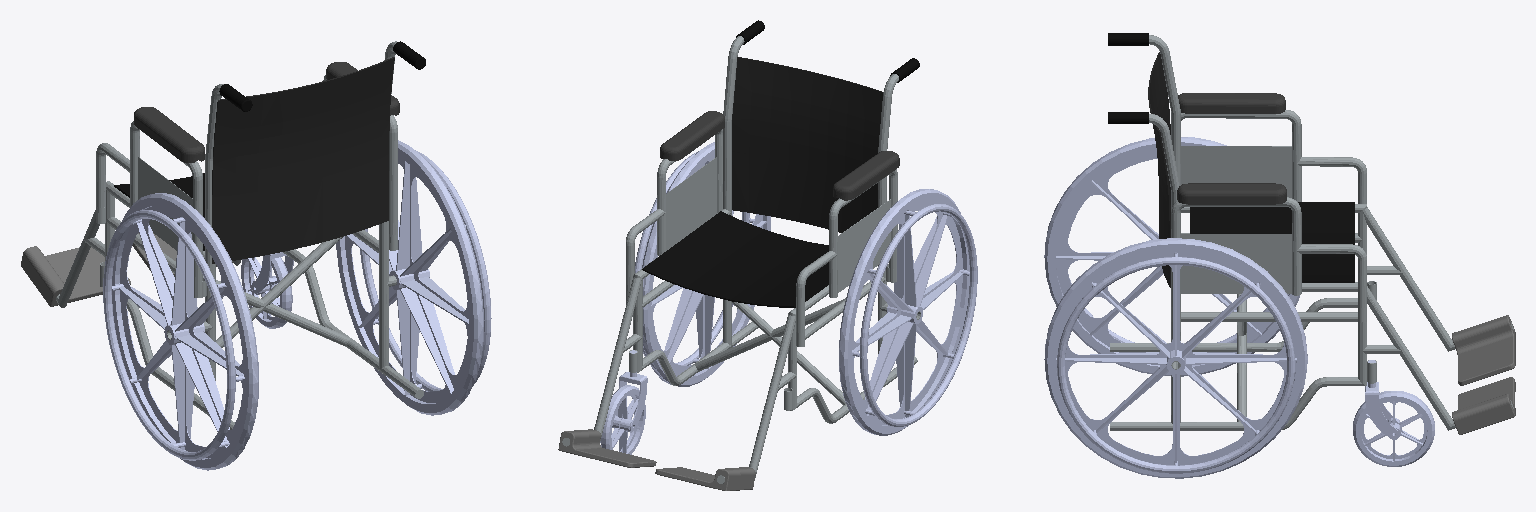
The robot description file, URDF, robot "wheelchair_description":
<robot
  name="wheelchair_description">
 
  <link
    name="base_link">
    <inertial>
      <origin
        xyz="-1.28082845038258E-05 0.101071625118331 -0.0727610834451831"
        rpy="0 0 0" />
      <mass
        value="2.91813448792695" />
      <inertia
        ixx="0.256407422045815"
        ixy="9.4092534200971E-07"
        ixz="-5.14055785103768E-06"
        iyy="0.264943521878258"
        iyz="0.0458755340734657"
        izz="0.241041719198046" />
    </inertial>
    <visual>
      <origin
        xyz="0 0 0"
        rpy="0 0 0" />
      <geometry>
        <mesh
          filename="package://wheelchair_description/meshes/base_link.STL" />
      </geometry>
      <material
        name="">
        <color
          rgba="0.63921568627451 0.666666666666667 0.67843137254902 1" />
      </material>
    </visual>
    <collision>
      <origin
        xyz="0 0 0"
        rpy="0 0 0" />
      <geometry>
        <mesh
          filename="package://wheelchair_description/meshes/base_link.STL" />
      </geometry>
    </collision>
  </link>
  <link
    name="leftwheel_large">
    <inertial>
      <origin
        xyz="0.00884272121955415 -1.52655665885959E-16 0"
        rpy="0 0 0" />
      <mass
        value="2.09127347260337" />
      <inertia
        ixx="0.141718020445608"
        ixy="-1.70129038814037E-18"
        ixz="4.38298979910474E-20"
        iyy="0.0715623057287749"
        iyz="-7.37535946286494E-20"
        izz="0.071562305728775" />
    </inertial>
    <visual>
      <origin
        xyz="0 0 0"
        rpy="0 0 0" />
      <geometry>
        <mesh
          filename="package://wheelchair_description/meshes/leftwheel_large.STL" />
      </geometry>
      <material
        name="">
        <color
          rgba="0.796078431372549 0.823529411764706 0.937254901960784 1" />
      </material>
    </visual>
    <collision>
      <origin
        xyz="0 0 0"
        rpy="0 0 0" />
      <geometry>
        <mesh
          filename="package://wheelchair_description/meshes/leftwheel_large.STL" />
      </geometry>
    </collision>
  </link>
  <joint
    name="leftwheel_large_joint"
    type="continuous">
    <origin
      xyz="-0.2794 -0.14129 0.0635"
      rpy="1.5708 0 3.1416" />
    <parent
      link="base_link" />
    <child
      link="leftwheel_large" />
    <axis
      xyz="1.0 0 0" />
  </joint>
  <link
    name="rightwheel_large">
    <inertial>
      <origin
        xyz="0.00884272121955421 5.55111512312578E-17 0"
        rpy="0 0 0" />
      <mass
        value="2.09127347260337" />
      <inertia
        ixx="0.141718020445608"
        ixy="-3.7003510904469E-18"
        ixz="1.20087974757339E-18"
        iyy="0.0715623057287749"
        iyz="5.59523873906816E-18"
        izz="0.071562305728775" />
    </inertial>
    <visual>
      <origin
        xyz="0 0 0"
        rpy="0 0 0" />
      <geometry>
        <mesh
          filename="package://wheelchair_description/meshes/rightwheel_large.STL" />
      </geometry>
      <material
        name="">
        <color
          rgba="0.796078431372549 0.823529411764706 0.937254901960784 1" />
      </material>
    </visual>
    <collision>
      <origin
        xyz="0 0 0"
        rpy="0 0 0" />
      <geometry>
        <mesh
          filename="package://wheelchair_description/meshes/rightwheel_large.STL" />
      </geometry>
    </collision>
  </link>
  <joint
    name="rightwheel_large_joint"
    type="continuous">
    <origin
      xyz="0.2794 -0.14129 0.0635"
      rpy="1.5708 0 0" />
    <parent
      link="base_link" />
    <child
      link="rightwheel_large" />
    <axis
      xyz="-1 0 0" />
  </joint>
  <link
    name="rightcaster">
    <inertial>
      <origin
        xyz="2.2944E-08 -0.079941 -0.0063847"
        rpy="0 0 0" />
      <mass
        value="0.064123" />
      <inertia
        ixx="0.0001406"
        ixy="2.3627E-11"
        ixz="-7.5709E-12"
        iyy="4.0905E-05"
        iyz="3.0634E-05"
        izz="0.00015091" />
    </inertial>
    <visual>
      <origin
        xyz="0 0 0"
        rpy="0 0 0" />
      <geometry>
        <mesh
          filename="package://wheelchair_description/meshes/rightcaster.STL" />
      </geometry>
      <material
        name="">
        <color
          rgba="0.79216 0.81961 0.93333 1" />
      </material>
    </visual>
    <collision>
      <origin
        xyz="0 0 0"
        rpy="0 0 0" />
      <geometry>
        <mesh
          filename="package://wheelchair_description/meshes/rightcaster.STL" />
      </geometry>
    </collision>
  </link>
  <joint
    name="rightcaster_joint"
    type="continuous">
    <origin
      xyz="0.2159 0.312737499999999 0.0253999999999996"
      rpy="1.5707963267949 0 0" />
    <parent
      link="base_link" />
    <child
      link="rightcaster" />
    <axis
      xyz="0 -1 0" />
  </joint>
  <link
    name="rightwheel_small">
    <inertial>
      <origin
        xyz="3.6892711108294E-13 2.77555756156289E-17 -5.55111512312578E-17"
        rpy="0 0 0" />
      <mass
        value="0.290948648858616" />
      <inertia
        ixx="0.00171792777524044"
        ixy="4.50037951992549E-20"
        ixz="-1.44756607081068E-21"
        iyy="0.000880037934920854"
        iyz="9.06796746511257E-20"
        izz="0.000880037934920855" />
    </inertial>
    <visual>
      <origin
        xyz="0 0 0"
        rpy="0 0 0" />
      <geometry>
        <mesh
          filename="package://wheelchair_description/meshes/rightwheel_small.STL" />
      </geometry>
      <material
        name="">
        <color
          rgba="0.796078431372549 0.823529411764706 0.937254901960784 1" />
      </material>
    </visual>
    <collision>
      <origin
        xyz="0 0 0"
        rpy="0 0 0" />
      <geometry>
        <mesh
          filename="package://wheelchair_description/meshes/rightwheel_small.STL" />
      </geometry>
    </collision>
  </link>
  <joint
    name="rightwheel_small_joint"
    type="continuous">
    <origin
      xyz="0 -0.17145 -0.0508"
      rpy="0 0 0" />
    <parent
      link="rightcaster" />
    <child
      link="rightwheel_small" />
    <axis
      xyz="-1 0 0" />
  </joint>
  <link
    name="leftcaster">
    <inertial>
      <origin
        xyz="2.2944E-08 -0.079941 -0.0063847"
        rpy="0 0 0" />
      <mass
        value="0.064123" />
      <inertia
        ixx="0.0001406"
        ixy="2.3627E-11"
        ixz="-7.5709E-12"
        iyy="4.0905E-05"
        iyz="3.0634E-05"
        izz="0.00015091" />
    </inertial>
    <visual>
      <origin
        xyz="0 0 0"
        rpy="0 0 0" />
      <geometry>
        <mesh
          filename="package://wheelchair_description/meshes/leftcaster.STL" />
      </geometry>
      <material
        name="">
        <color
          rgba="0.79216 0.81961 0.93333 1" />
      </material>
    </visual>
    <collision>
      <origin
        xyz="0 0 0"
        rpy="0 0 0" />
      <geometry>
        <mesh
          filename="package://wheelchair_description/meshes/leftcaster.STL" />
      </geometry>
    </collision>
  </link>
  <joint
    name="leftcaster_joint"
    type="continuous">
    <origin
      xyz="-0.2159 0.31274 0.0254"
      rpy="1.5708 0 0" />
    <parent
      link="base_link" />
    <child
      link="leftcaster" />
    <axis
      xyz="0 -1 0" />
  </joint>
  <link
    name="leftwheel_small">
    <inertial>
      <origin
        xyz="3.6892711108294E-13 2.77555756156289E-17 -5.55111512312578E-17"
        rpy="0 0 0" />
      <mass
        value="0.290948648858616" />
      <inertia
        ixx="0.00171792777524044"
        ixy="4.50037951992647E-20"
        ixz="-1.55096364737737E-21"
        iyy="0.000880037934920855"
        iyz="9.04728794979875E-20"
        izz="0.000880037934920855" />
    </inertial>
    <visual>
      <origin
        xyz="0 0 0"
        rpy="0 0 0" />
      <geometry>
        <mesh
          filename="package://wheelchair_description/meshes/leftwheel_small.STL" />
      </geometry>
      <material
        name="">
        <color
          rgba="0.796078431372549 0.823529411764706 0.937254901960784 1" />
      </material>
    </visual>
    <collision>
      <origin
        xyz="0 0 0"
        rpy="0 0 0" />
      <geometry>
        <mesh
          filename="package://wheelchair_description/meshes/leftwheel_small.STL" />
      </geometry>
    </collision>
  </link>
  <joint
    name="leftwheel_small_joint"
    type="continuous">
    <origin
      xyz="0 -0.17145 -0.0508"
      rpy="0 0 0" />
    <parent
      link="leftcaster" />
    <child
      link="leftwheel_small" />
    <axis
      xyz="-1 0 0" />
  </joint>
  <link
    name="rightarm">
    <inertial>
      <origin
        xyz="1.18010281741077E-07 0.185166937072231 -0.199206461461145"
        rpy="0 0 0" />
      <mass
        value="0.471825089726768" />
      <inertia
        ixx="0.0155593318644731"
        ixy="1.84439011258916E-09"
        ixz="-3.43766589699374E-09"
        iyy="0.0117190838949384"
        iyz="0.00138642687496885"
        izz="0.00386697456778474" />
    </inertial>
    <visual>
      <origin
        xyz="0 0 0"
        rpy="0 0 0" />
      <geometry>
        <mesh
          filename="package://wheelchair_description/meshes/rightarm.STL" />
      </geometry>
      <material
        name="">
        <color
          rgba="0.63921568627451 0.666666666666667 0.67843137254902 1" />
      </material>
    </visual>
    <collision>
      <origin
        xyz="0 0 0"
        rpy="0 0 0" />
      <geometry>
        <mesh
          filename="package://wheelchair_description/meshes/rightarm.STL" />
      </geometry>
    </collision>
  </link>
  <joint
    name="rightarm_joint"
    type="fixed">
    <origin
      xyz="0.23813 -0.14129 0.1397"
      rpy="1.5708 0 0" />
    <parent
      link="base_link" />
    <child
      link="rightarm" />
    <axis
      xyz="0 0 0" />
  </joint>
  <link
    name="right_armrest">
    <inertial>
      <origin
        xyz="-2.42861286636753E-17 0.0157847733756278 -3.11620174109351E-12"
        rpy="0 0 0" />
      <mass
        value="0.408415585541636" />
      <inertia
        ixx="0.000135173991787839"
        ixy="5.02807841910249E-20"
        ixz="4.88453589208517E-14"
        iyy="0.00211830087648834"
        iyz="-9.09079579520897E-14"
        izz="0.00204476151647392" />
    </inertial>
    <visual>
      <origin
        xyz="0 0 0"
        rpy="0 0 0" />
      <geometry>
        <mesh
          filename="package://wheelchair_description/meshes/right_armrest.STL" />
      </geometry>
      <material
        name="">
        <color
          rgba="0.294117647058824 0.294117647058824 0.294117647058824 1" />
      </material>
    </visual>
    <collision>
      <origin
        xyz="0 0 0"
        rpy="0 0 0" />
      <geometry>
        <mesh
          filename="package://wheelchair_description/meshes/right_armrest.STL" />
      </geometry>
    </collision>
  </link>
  <joint
    name="right_armrest_joint"
    type="fixed">
    <origin
      xyz="0 0.31115 -0.12979"
      rpy="0 1.5708 0" />
    <parent
      link="rightarm" />
    <child
      link="right_armrest" />
    <axis
      xyz="0 0 0" />
  </joint>
  <link
    name="leftarm">
    <inertial>
      <origin
        xyz="1.18010281685565E-07 0.185166937072233 -0.199206461461144"
        rpy="0 0 0" />
      <mass
        value="0.471825089726767" />
      <inertia
        ixx="0.015559331864473"
        ixy="1.84439011362186E-09"
        ixz="-3.43766589311025E-09"
        iyy="0.0117190838949385"
        iyz="0.00138642687496879"
        izz="0.00386697456778471" />
    </inertial>
    <visual>
      <origin
        xyz="0 0 0"
        rpy="0 0 0" />
      <geometry>
        <mesh
          filename="package://wheelchair_description/meshes/leftarm.STL" />
      </geometry>
      <material
        name="">
        <color
          rgba="0.63921568627451 0.666666666666667 0.67843137254902 1" />
      </material>
    </visual>
    <collision>
      <origin
        xyz="0 0 0"
        rpy="0 0 0" />
      <geometry>
        <mesh
          filename="package://wheelchair_description/meshes/leftarm.STL" />
      </geometry>
    </collision>
  </link>
  <joint
    name="leftarm_joint"
    type="fixed">
    <origin
      xyz="-0.24692 -0.1412 0.1397"
      rpy="1.5708 -1.2478E-18 -0.02038" />
    <parent
      link="base_link" />
    <child
      link="leftarm" />
    <axis
      xyz="0 0 0" />
  </joint>
  <link
    name="left_armrest">
    <inertial>
      <origin
        xyz="1.52655665885959E-16 0.0157847733756278 -3.11620174109351E-12"
        rpy="0 0 0" />
      <mass
        value="0.408415585541636" />
      <inertia
        ixx="0.000135173991787839"
        ixy="-1.73218564538266E-17"
        ixz="4.88618841500382E-14"
        iyy="0.00211830087648834"
        iyz="-9.09079215940594E-14"
        izz="0.00204476151647392" />
    </inertial>
    <visual>
      <origin
        xyz="0 0 0"
        rpy="0 0 0" />
      <geometry>
        <mesh
          filename="package://wheelchair_description/meshes/left_armrest.STL" />
      </geometry>
      <material
        name="">
        <color
          rgba="0.294117647058824 0.294117647058824 0.294117647058824 1" />
      </material>
    </visual>
    <collision>
      <origin
        xyz="0 0 0"
        rpy="0 0 0" />
      <geometry>
        <mesh
          filename="package://wheelchair_description/meshes/left_armrest.STL" />
      </geometry>
    </collision>
  </link>
  <joint
    name="left_armrest_joint"
    type="fixed">
    <origin
      xyz="0 0.31115 0"
      rpy="0 1.5708 0" />
    <parent
      link="leftarm" />
    <child
      link="left_armrest" />
    <axis
      xyz="0 0 0" />
  </joint>
  <link
    name="footrest_right">
    <inertial>
      <origin
        xyz="-0.0236226570016088 0.0138345880544009 1.18350340638784E-09"
        rpy="0 0 0" />
      <mass
        value="0.501530967220647" />
      <inertia
        ixx="0.000903120970728862"
        ixy="-0.000220262508399431"
        ixz="-5.59521519754147E-11"
        iyy="0.00273494587361928"
        iyz="1.10352302924895E-11"
        izz="0.0020199225032826" />
    </inertial>
    <visual>
      <origin
        xyz="0 0 0"
        rpy="0 0 0" />
      <geometry>
        <mesh
          filename="package://wheelchair_description/meshes/footrest_right.STL" />
      </geometry>
      <material
        name="">
        <color
          rgba="0.494117647058824 0.494117647058824 0.494117647058824 1" />
      </material>
    </visual>
    <collision>
      <origin
        xyz="0 0 0"
        rpy="0 0 0" />
      <geometry>
        <mesh
          filename="package://wheelchair_description/meshes/footrest_right.STL" />
      </geometry>
    </collision>
  </link>
  <joint
    name="footrest_right_joint"
    type="fixed">
    <origin
      xyz="0.133349996040531 0.57997143308514 -0.131687141742198"
      rpy="1.22173047639603 -1.46483635954078E-07 3.14159265358979" />
    <parent
      link="base_link" />
    <child
      link="footrest_right" />
    <axis
      xyz="0 0 0" />
  </joint>
  <link
    name="footrest_left">
    <inertial>
      <origin
        xyz="-0.0236226546114514 0.0138345921356111 0"
        rpy="0 0 0" />
      <mass
        value="0.501530967220646" />
      <inertia
        ixx="0.000903121046837002"
        ixy="-0.000220262824877906"
        ixz="-1.02999206386123E-18"
        iyy="0.00273494579751114"
        iyz="-2.60208521396521E-18"
        izz="0.0020199225032826" />
    </inertial>
    <visual>
      <origin
        xyz="0 0 0"
        rpy="0 0 0" />
      <geometry>
        <mesh
          filename="package://wheelchair_description/meshes/footrest_left.STL" />
      </geometry>
      <material
        name="">
        <color
          rgba="0.494117647058824 0.494117647058824 0.494117647058824 1" />
      </material>
    </visual>
    <collision>
      <origin
        xyz="0 0 0"
        rpy="0 0 0" />
      <geometry>
        <mesh
          filename="package://wheelchair_description/meshes/footrest_left.STL" />
      </geometry>
    </collision>
  </link>
  <joint
    name="footrest_left_joint"
    type="fixed">
    <origin
      xyz="-0.13335 0.57997 -0.13169"
      rpy="1.9199 0 0" />
    <parent
      link="base_link" />
    <child
      link="footrest_left" />
    <axis
      xyz="0 0 0" />
  </joint>
  <link
    name="rightgrip">
    <inertial>
      <origin
        xyz="-2.77555756156289E-17 0 0.0456011551858931"
        rpy="0 0 0" />
      <mass
        value="0.0252443236384477" />
      <inertia
        ixx="2.24921786050753E-05"
        ixy="6.64838770530638E-38"
        ixz="-8.25558926882581E-22"
        iyy="2.24921786050753E-05"
        iyz="3.9158246270818E-34"
        izz="4.00656160389394E-06" />
    </inertial>
    <visual>
      <origin
        xyz="0 0 0"
        rpy="0 0 0" />
      <geometry>
        <mesh
          filename="package://wheelchair_description/meshes/rightgrip.STL" />
      </geometry>
      <material
        name="">
        <color
          rgba="0.0980392156862745 0.0980392156862745 0.0980392156862745 1" />
      </material>
    </visual>
    <collision>
      <origin
        xyz="0 0 0"
        rpy="0 0 0" />
      <geometry>
        <mesh
          filename="package://wheelchair_description/meshes/rightgrip.STL" />
      </geometry>
    </collision>
  </link>
  <joint
    name="rightgrip_joint"
    type="fixed">
    <origin
      xyz="0.2159 -0.300037500000001 0.6477"
      rpy="1.5707963267949 0 3.14159265358979" />
    <parent
      link="base_link" />
    <child
      link="rightgrip" />
    <axis
      xyz="0 0 0" />
  </joint>
  <link
    name="leftgrip">
    <inertial>
      <origin
        xyz="0 1.1102E-16 0.045601"
        rpy="0 0 0" />
      <mass
        value="0.025244" />
      <inertia
        ixx="2.2492E-05"
        ixy="5.8078E-38"
        ixz="8.7567E-22"
        iyy="2.2492E-05"
        iyz="3.6359E-34"
        izz="4.0066E-06" />
    </inertial>
    <visual>
      <origin
        xyz="0 0 0"
        rpy="0 0 0" />
      <geometry>
        <mesh
          filename="package://wheelchair_description/meshes/leftgrip.STL" />
      </geometry>
      <material
        name="">
        <color
          rgba="0.098039 0.098039 0.098039 1" />
      </material>
    </visual>
    <collision>
      <origin
        xyz="0 0 0"
        rpy="0 0 0" />
      <geometry>
        <mesh
          filename="package://wheelchair_description/meshes/leftgrip.STL" />
      </geometry>
    </collision>
  </link>
  <joint
    name="leftgrip_joint"
    type="fixed">
    <origin
      xyz="-0.2159 -0.300037500000001 0.6477"
      rpy="1.5707963267949 0 3.14159265358979" />
    <parent
      link="base_link" />
    <child
      link="leftgrip" />
    <axis
      xyz="0 0 0" />
  </joint>
  <link
    name="seat">
    <inertial>
      <origin
        xyz="2.8645E-16 0.0065933 0.1905"
        rpy="0 0 0" />
      <mass
        value="0.63387" />
      <inertia
        ixx="0.007705"
        ixy="2.2272E-17"
        ixz="1.3722E-18"
        iyy="0.01763"
        iyz="-1.2773E-19"
        izz="0.0099994" />
    </inertial>
    <visual>
      <origin
        xyz="0 0 0"
        rpy="0 0 0" />
      <geometry>
        <mesh
          filename="package://wheelchair_description/meshes/seat.STL" />
      </geometry>
      <material
        name="">
        <color
          rgba="0.1098 0.1098 0.1098 1" />
      </material>
    </visual>
    <collision>
      <origin
        xyz="0 0 0"
        rpy="0 0 0" />
      <geometry>
        <mesh
          filename="package://wheelchair_description/meshes/seat.STL" />
      </geometry>
    </collision>
  </link>
  <joint
    name="seat_joint"
    type="fixed">
    <origin
      xyz="-0.000758068437348654 0.272009848683766 0.205317756485755"
      rpy="1.5707963267949 0 0" />
    <parent
      link="base_link" />
    <child
      link="seat" />
    <axis
      xyz="0 0 0" />
  </joint>
  <link
    name="back">
    <inertial>
      <origin
        xyz="0.2159 -0.23366 -0.12406"
        rpy="0 0 0" />
      <mass
        value="0.8762" />
      <inertia
        ixx="0.064112"
        ixy="1.2796E-07"
        ixz="-3.0003E-11"
        iyy="0.079205"
        iyz="0.0035815"
        izz="0.14222" />
    </inertial>
    <visual>
      <origin
        xyz="0 0 0"
        rpy="0 0 0" />
      <geometry>
        <mesh
          filename="package://wheelchair_description/meshes/back.STL" />
      </geometry>
      <material
        name="">
        <color
          rgba="0.2 0.2 0.2 1" />
      </material>
    </visual>
    <collision>
      <origin
        xyz="0 0 0"
        rpy="0 0 0" />
      <geometry>
        <mesh
          filename="package://wheelchair_description/meshes/back.STL" />
      </geometry>
    </collision>
  </link>
  <joint
    name="back_joint"
    type="fixed">
    <origin
      xyz="-0.2159 -0.30004 0.6477"
      rpy="1.5708 0 0" />
    <parent
      link="base_link" />
    <child
      link="back" />
    <axis
      xyz="0 0 0" />
  </joint>
</robot>

--- Facts derived from the render (not from the file) ---
Views: 3 orthographic renders of the robot side by side, from view 1: azimuth 30°, elevation 25°; view 2: azimuth 150°, elevation 25°; view 3: azimuth 270°, elevation 25°.
Model wheelchair_description with 17 links and 16 joints (6 continuous, 10 fixed), rooted at base_link, posed all joints at 0.
Visible links, largest first — view 1: back, leftwheel_large, rightwheel_large, base_link, leftarm, footrest_left, left_armrest, rightwheel_small, rightarm, rightcaster, right_armrest; view 2: back, leftwheel_large, base_link, seat, rightwheel_large, rightarm, leftarm, rightwheel_small, footrest_right, left_armrest, right_armrest, footrest_left (+1 smaller); view 3: rightwheel_large, base_link, leftwheel_large, rightarm, leftarm, seat, footrest_left, rightwheel_small, footrest_right, right_armrest, back, left_armrest (+2 smaller).
Link boxes in pixels (x1,y1,x2,y2): back: (212,57,394,263); leftwheel_large: (103,193,258,470); rightwheel_large: (336,140,491,415); base_link: (56,41,423,438); leftarm: (96,121,202,297); footrest_left: (21,246,130,306); left_armrest: (134,107,204,162); rightwheel_small: (241,257,292,328); rightarm: (323,75,397,242); rightcaster: (252,252,293,293); right_armrest: (326,62,399,115); back: (732,57,882,232); leftwheel_large: (839,189,977,435); base_link: (562,36,920,483); seat: (642,211,828,307); rightwheel_large: (635,142,770,386); rightarm: (626,129,722,290); leftarm: (796,169,897,332); rightwheel_small: (600,385,645,454); footrest_right: (558,429,656,467); left_armrest: (833,151,899,200); right_armrest: (660,111,724,160); footrest_left: (655,467,755,490); rightwheel_large: (1044,238,1307,478); base_link: (1110,35,1513,430); leftwheel_large: (1044,137,1299,376); rightarm: (1171,197,1366,322); leftarm: (1181,110,1366,203); seat: (1190,202,1354,282); footrest_left: (1452,315,1515,385); rightwheel_small: (1353,391,1434,466); footrest_right: (1452,377,1515,434); right_armrest: (1177,183,1286,204); back: (1148,52,1170,287); left_armrest: (1178,93,1285,113).
Size in the robot's own frame: 0.6541 by 1.09 by 0.903 metres.
15 mesh visuals loaded from 17 distinct referenced files (15 binary STL); not drawn: 2 (reference not matched to a file when rendering).
